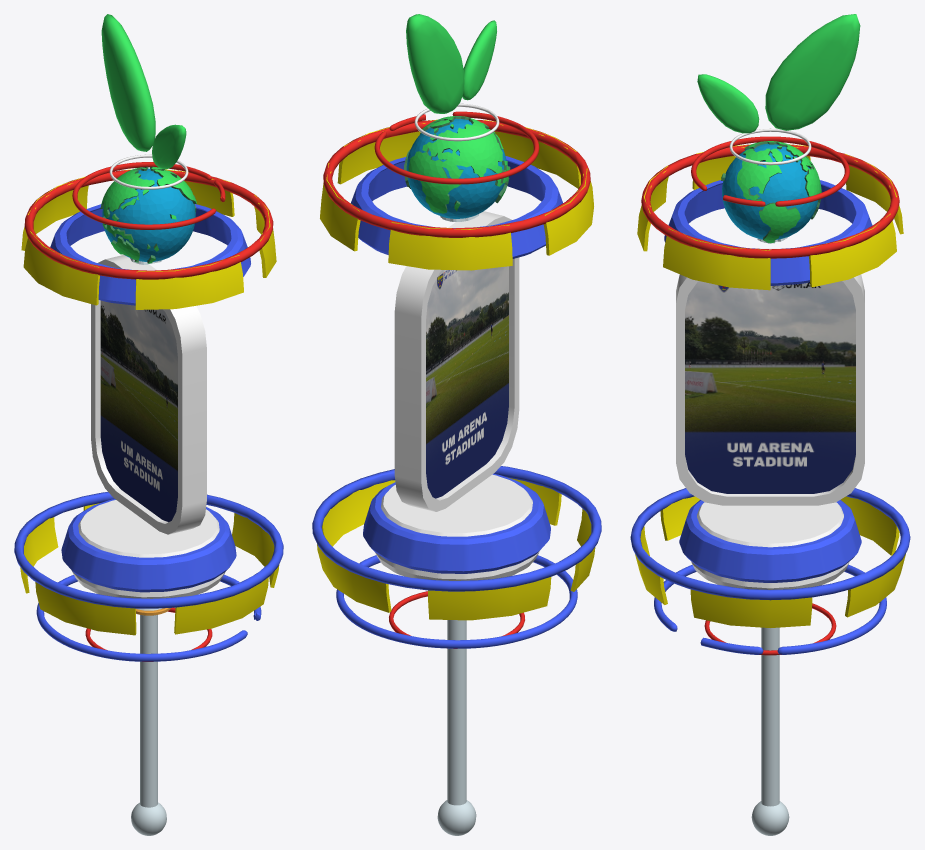
File: um_arena.glb
3 renders of one model, left to right at view 1: azimuth 30°, elevation 25°; view 2: azimuth 150°, elevation 25°; view 3: azimuth 270°, elevation 25°, orthographic. The views are drawn at different scales.
Parts seen in each view (by area): view 1: pCube3, polySurface2, pasted__pSphere8, pasted__pSphere6, pasted__pCylinder9, Sphere, pasted__pCylinder10, pCube5, pasted__polySurface27, pasted__polySurface28, pasted__pCone1, pasted__polySurface30 (+3 smaller); view 2: pCube3, polySurface2, pasted__pSphere8, pasted__pSphere6, pasted__pCylinder9, Sphere, pasted__pCylinder10, pasted__polySurface27, pCube5, pasted__polySurface28, pasted__polySurface30, pasted__pCone1 (+4 smaller); view 3: pCube3, pasted__pSphere8, pCube5, pasted__pSphere6, Sphere, pasted__pCylinder9, pasted__pCylinder10, polySurface2, pasted__polySurface27, pasted__polySurface28, pasted__polySurface30, pasted__pCone1 (+4 smaller).
Part boxes in pixels (x1,y1,x2,y2): pCube3: (100,300,177,522); polySurface2: (91,255,206,534); pasted__pSphere8: (21,169,276,309); pasted__pSphere6: (20,503,279,635); pasted__pCylinder9: (61,499,236,592); Sphere: (100,166,196,264); pasted__pCylinder10: (71,500,225,598); pCube5: (101,14,186,169); pasted__polySurface27: (14,492,283,608); pasted__polySurface28: (24,170,273,279); pasted__pCone1: (131,608,166,835); pasted__polySurface30: (50,204,250,305); pCube3: (426,266,508,498); polySurface2: (394,211,519,511); pasted__pSphere8: (320,119,593,270); pasted__pSphere6: (317,477,595,620); pasted__pCylinder9: (363,473,550,573); Sphere: (404,116,510,221); pasted__pCylinder10: (375,474,539,580); pasted__polySurface27: (312,466,601,591); pCube5: (406,14,496,113); pasted__polySurface28: (323,120,590,237); pasted__polySurface30: (350,156,562,258); pasted__pCone1: (437,620,476,835); pCube3: (685,281,855,493); pasted__pSphere8: (637,144,903,290); pCube5: (697,14,860,133); pasted__pSphere6: (635,496,905,627); Sphere: (721,141,821,243); pasted__pCylinder9: (679,500,861,582); pasted__pCylinder10: (691,502,849,589); polySurface2: (676,248,864,505); pasted__polySurface27: (630,488,910,600); pasted__polySurface28: (641,144,899,258); pasted__polySurface30: (664,180,872,285); pasted__pCone1: (751,627,789,835).
Size of the model in its own units: 0.0149 by 0.0481 by 0.0149.
Materials: 10 (1 with a texture image).
